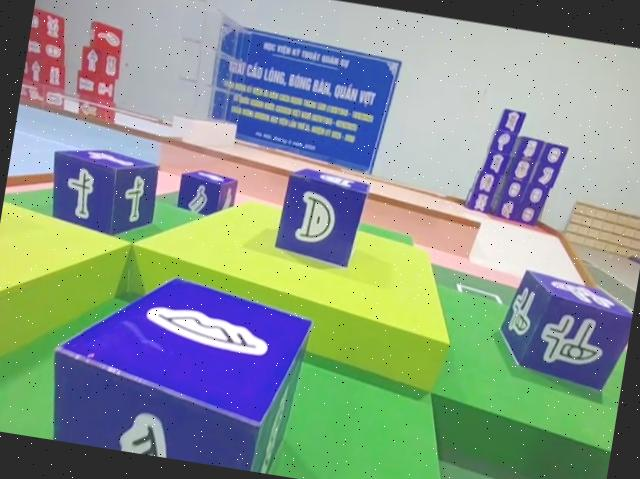R2 Real Blue: (47, 247, 320, 477), (50, 257, 314, 477), (492, 267, 637, 395), (39, 141, 160, 243), (270, 165, 370, 273), (175, 167, 239, 222)
